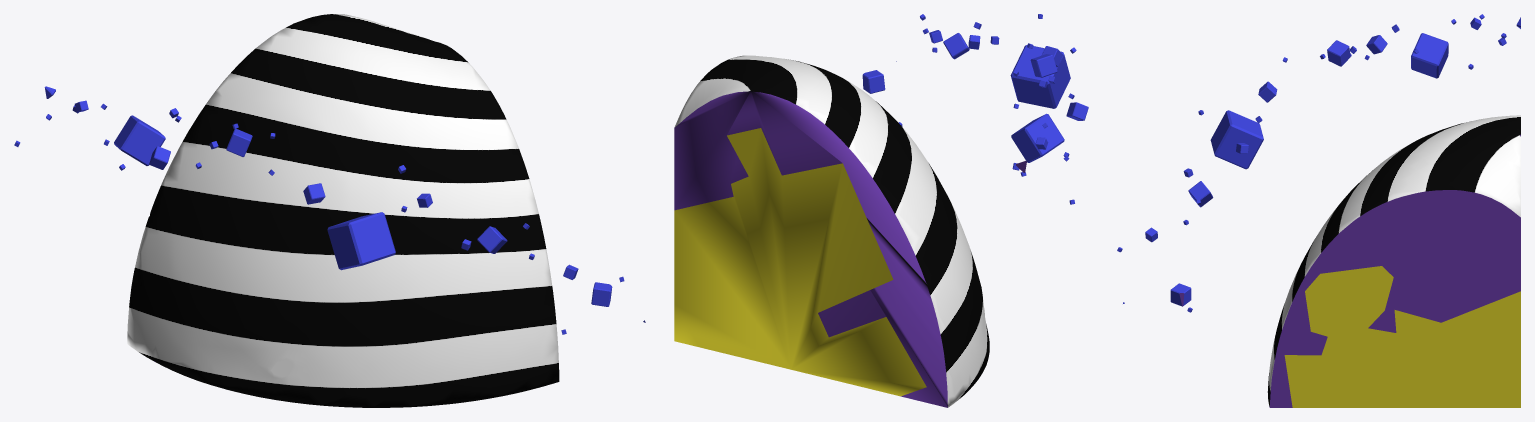
Rendered from SM_Apple_Behind_RT.fbx.
The picture shows the model from 3 angles, left to right: view 1: azimuth 30°, elevation 25°; view 2: azimuth 150°, elevation 25°; view 3: azimuth 270°, elevation 25°; orthographic projection. The views are drawn at different scales.
Visible parts, largest first — view 1: 立方体.0003; view 2: 立方体.0003; view 3: 立方体.0003.
Part boxes in pixels (<box>): 立方体.0003: <box>14,14,645,407</box>; 立方体.0003: <box>674,14,1088,407</box>; 立方体.0003: <box>1117,14,1520,407</box>.
Bounding box in the file's own units: 169 × 117 × 169.
